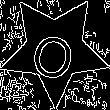O_N: (28, 19, 81, 80)
